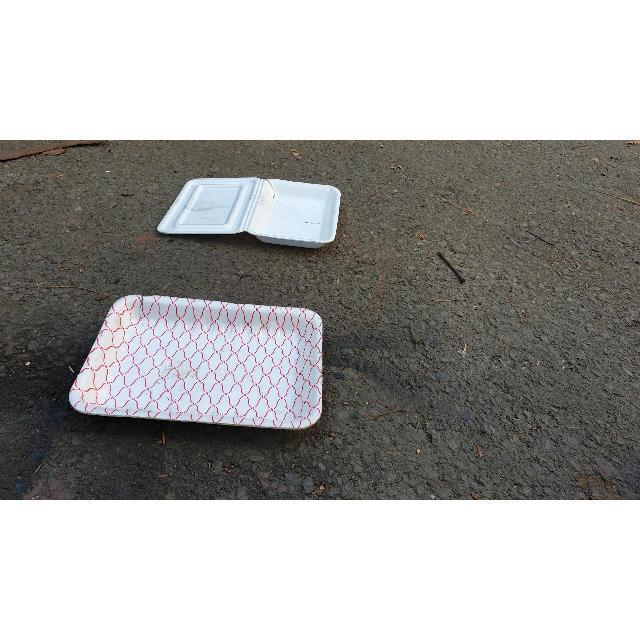Plastico descartable: (68, 295, 324, 432), (158, 179, 342, 250)
